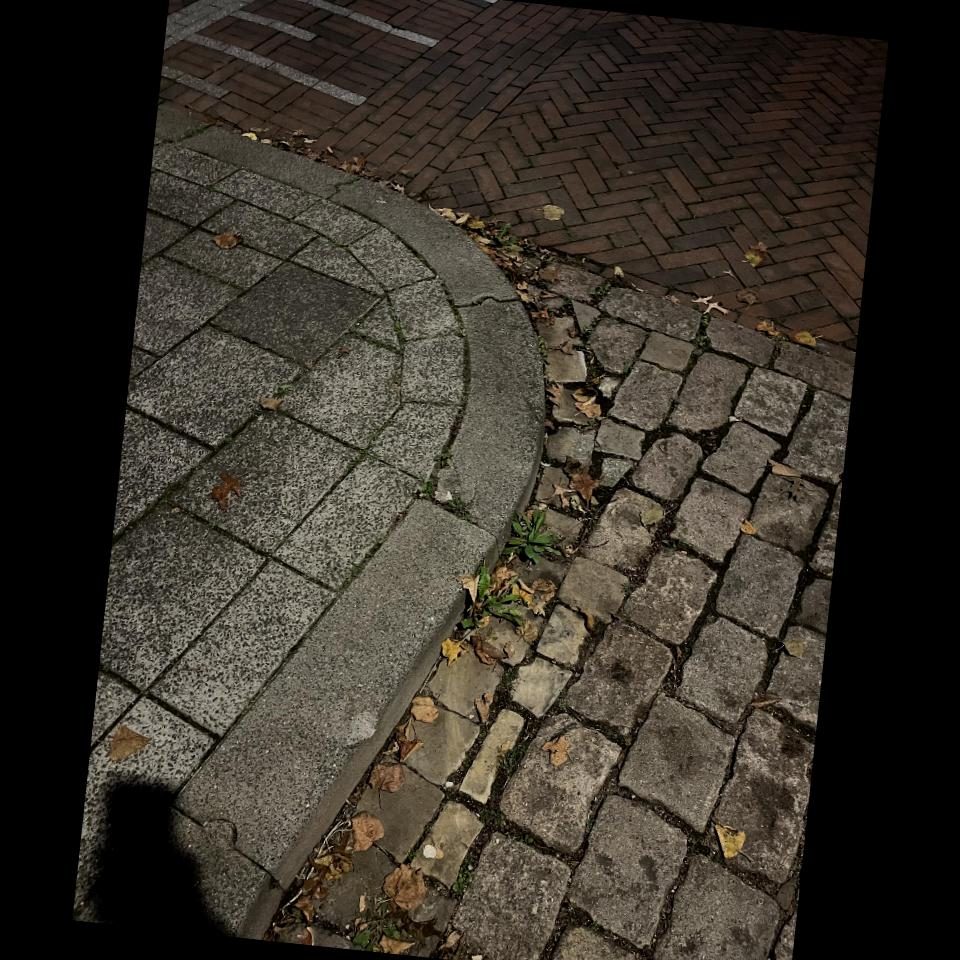weed: (454, 567, 520, 630)
